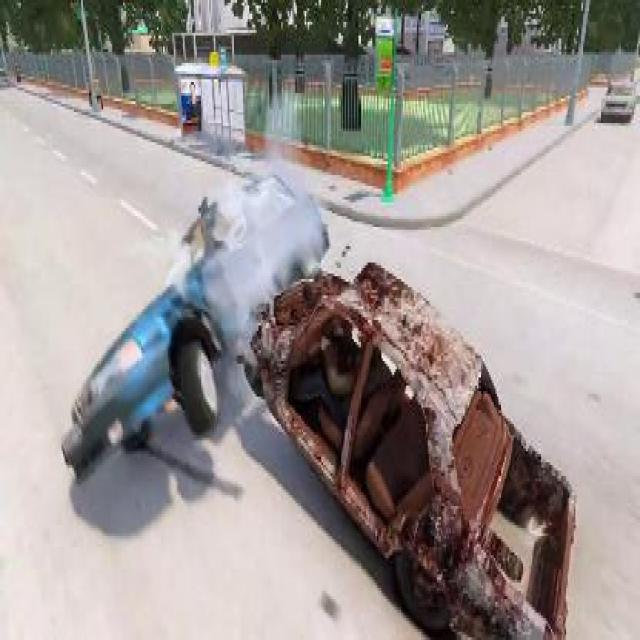accident: (52, 169, 585, 632)
